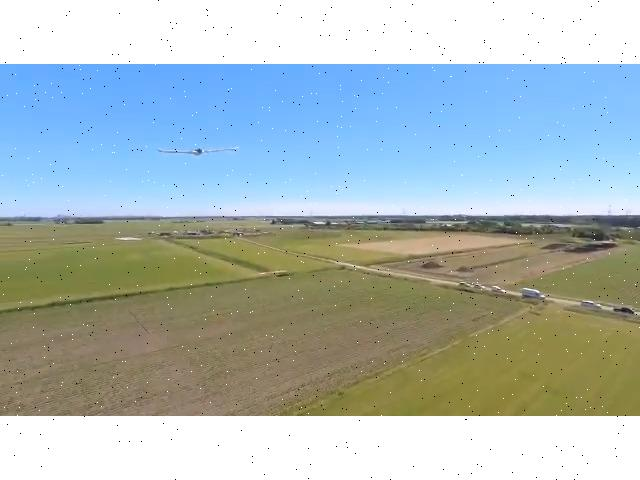Anti-Drone: (149, 139, 247, 163)
